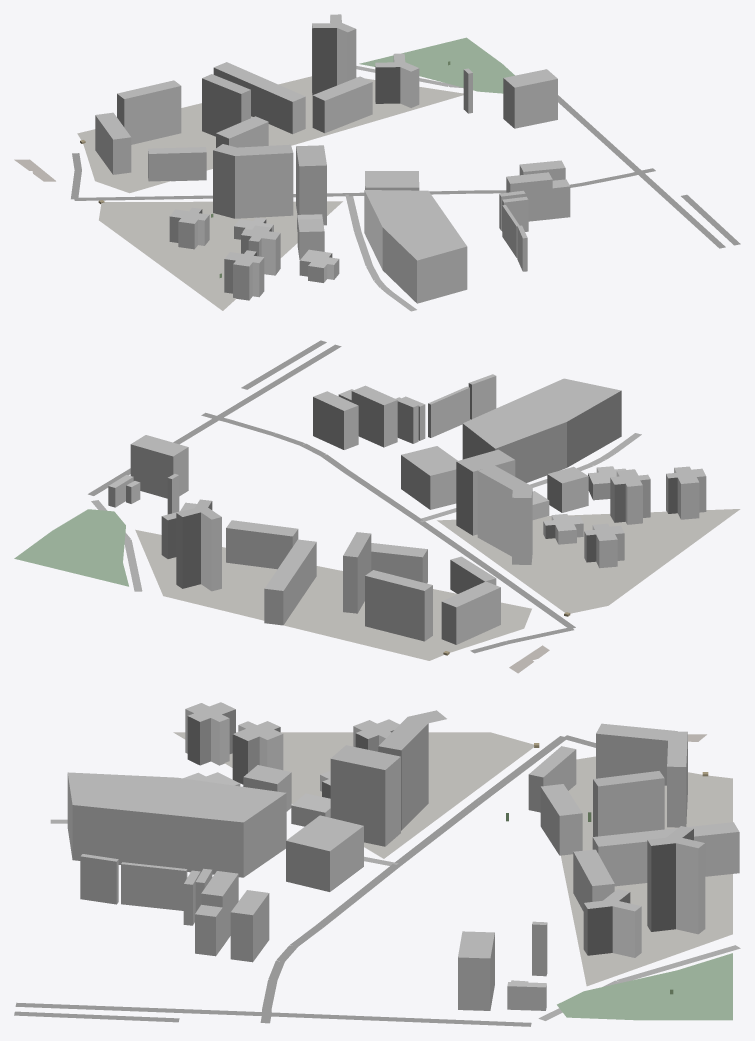
3 renders of one model, top to bottom at view 1: azimuth 30°, elevation 25°; view 2: azimuth 150°, elevation 25°; view 3: azimuth 270°, elevation 25°, orthographic. The views are drawn at different scales.
Size of the model in its own units: 511 by 71.23 by 532.
